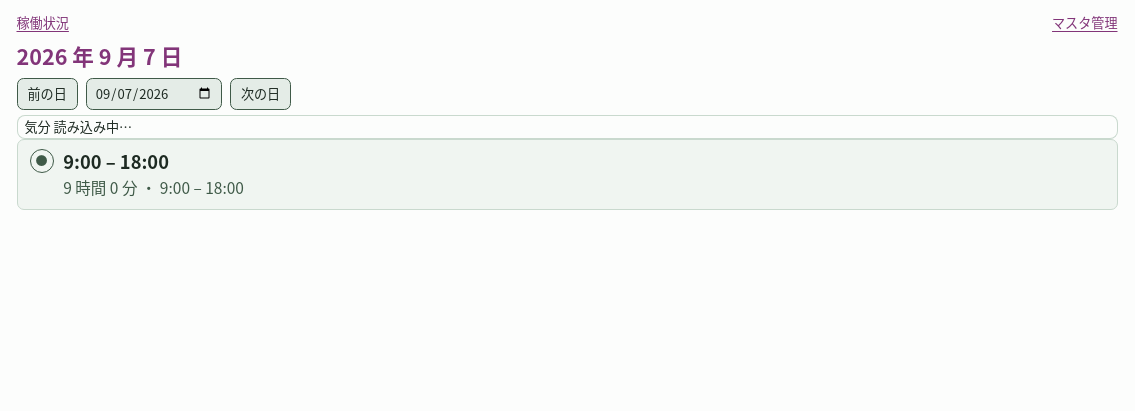
Test case: 開いた行の中身 › Europe/London の記録は Tokyo の時刻に（London 8:02）が添う。Tokyo の記録には添わない
This screenshot has width=1135, height=411.
What coordinates should you click on to do the following:
click the button "9:00 – 18:00 9 時間 0 分 ・ 9:00 – 18:00"
I would click on:
 (116, 161)
Its box is 63,149 -> 1104,200.
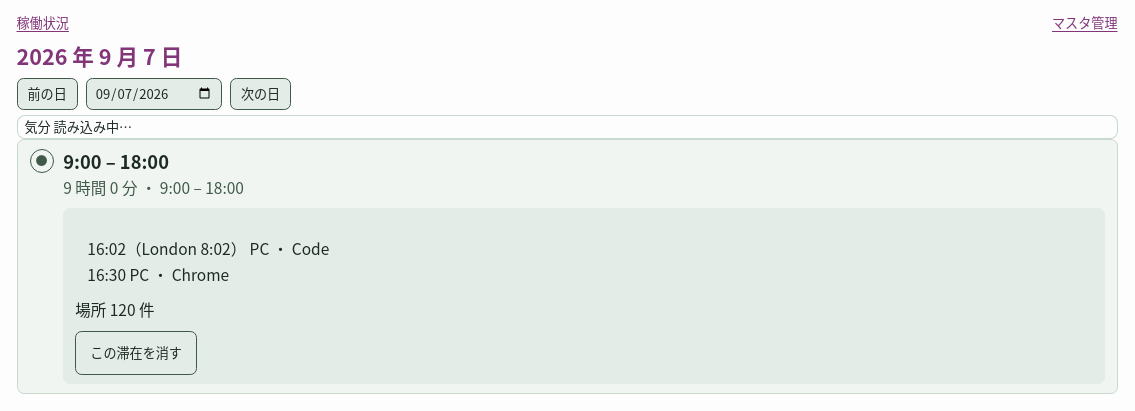
Expected: the list item does not show "（"
Expected: the list with test id "records" is shown, 75,225 -> 1092,296
Expected: the list item "16:02（London 8:02） PC ・ Code" is shown, 87,236 -> 329,258
